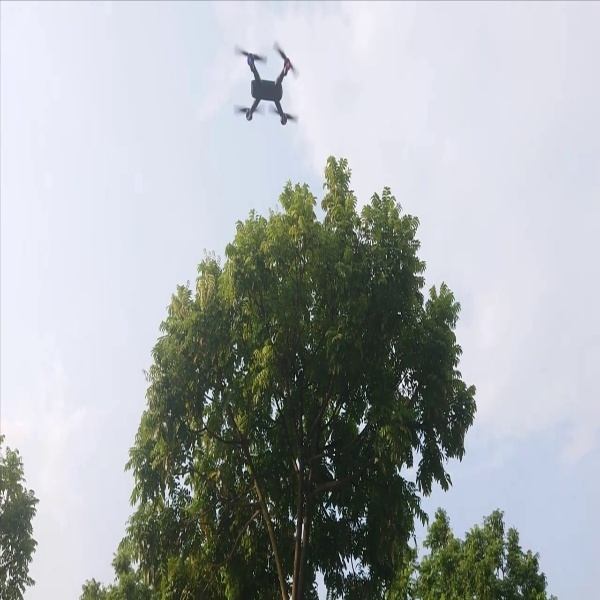drone: (224, 31, 317, 137)
